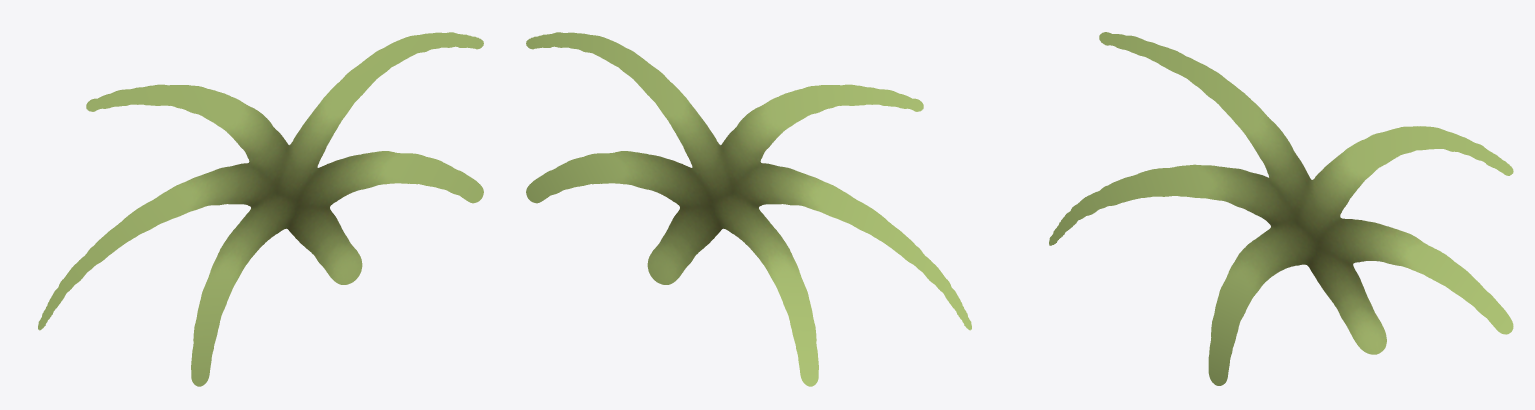
Rendered from HP3_weed031 1.fbx.
3 renders of one model, left to right at view 1: azimuth 30°, elevation 25°; view 2: azimuth 150°, elevation 25°; view 3: azimuth 330°, elevation 25°, orthographic. The views are drawn at different scales.
Parts seen in each view (by area): view 1: HP3_weed031; view 2: HP3_weed031; view 3: HP3_weed031.
Boxes of the visible parts, <box> form: HP3_weed031: <box>38,32,483,386</box>; HP3_weed031: <box>526,32,971,386</box>; HP3_weed031: <box>1049,32,1513,385</box>.
Size of the model in its own units: 10.1 by 6.83 by 0.04.
